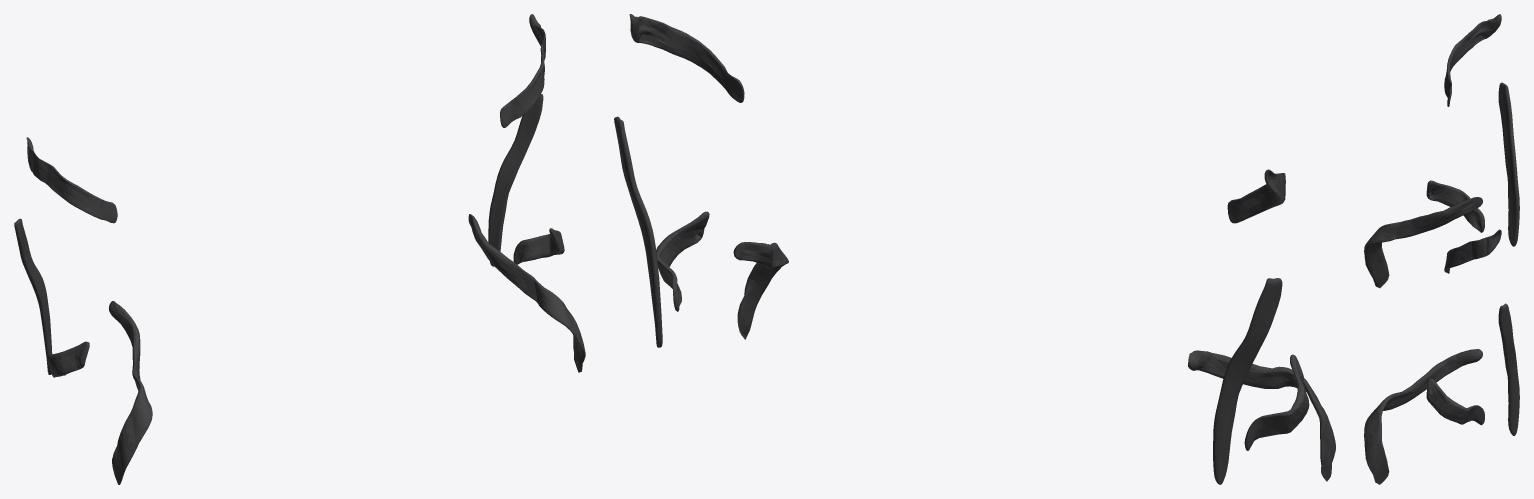
File: HL_retinaculi.glb
3 views of the same model, side by side, from view 1: azimuth 30°, elevation 25°; view 2: azimuth 150°, elevation 25°; view 3: azimuth 270°, elevation 25° (orthographic). The views are drawn at different scales.
Visible parts, largest first — view 1: HL_retinaculi; view 2: HL_retinaculi; view 3: HL_retinaculi.
Part boxes in pixels (bbox=[...]): HL_retinaculi: bbox=[14, 14, 585, 484]; HL_retinaculi: bbox=[614, 14, 1335, 484]; HL_retinaculi: bbox=[1364, 14, 1519, 484].
Bounding box in the file's own units: 0.0563 × 0.0308 × 0.0164.
Materials: 1 (1 with a texture image).
